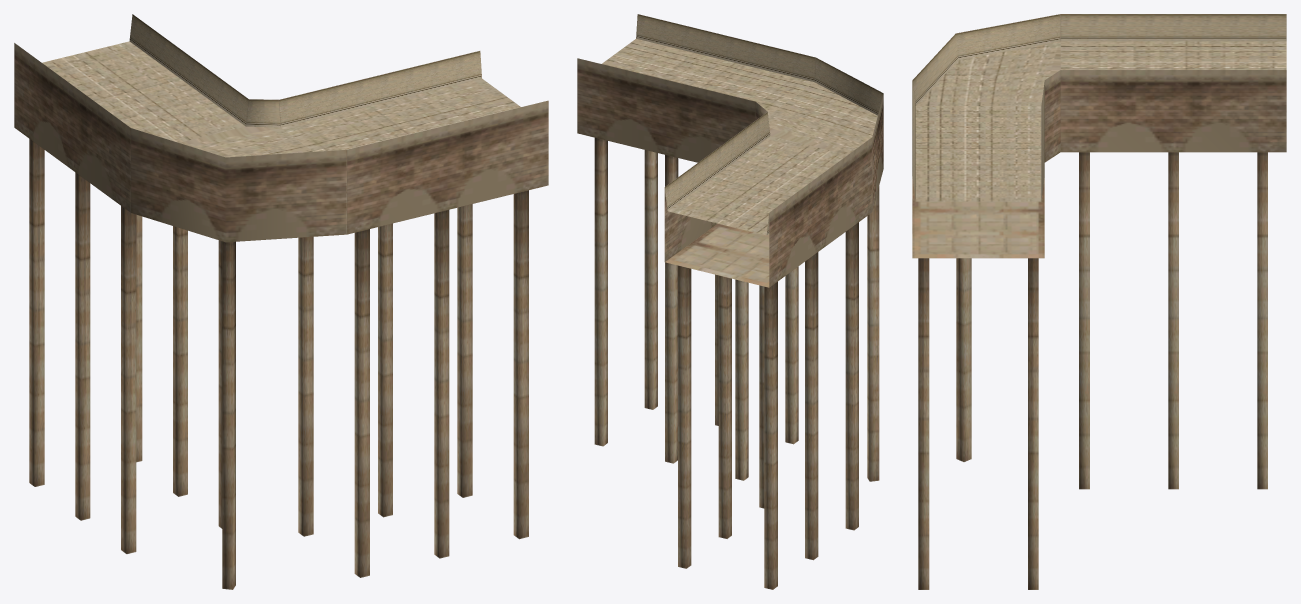
Rendered from thm_nboo_imprv_elevated_walkway_corner_s01_l4.fbx.
The picture shows the model from 3 angles, left to right: view 1: azimuth 30°, elevation 25°; view 2: azimuth 150°, elevation 25°; view 3: azimuth 270°, elevation 25°; orthographic projection. The views are drawn at different scales.
Visible parts, largest first — view 1: mesh_node; view 2: mesh_node; view 3: mesh_node.
Part boxes in pixels (x1,y1,x2,y2): mesh_node: [14, 14, 548, 589]; mesh_node: [577, 14, 883, 589]; mesh_node: [912, 14, 1286, 589].
Bounding box in the file's own units: 15.04 × 18.3 × 14.7.
